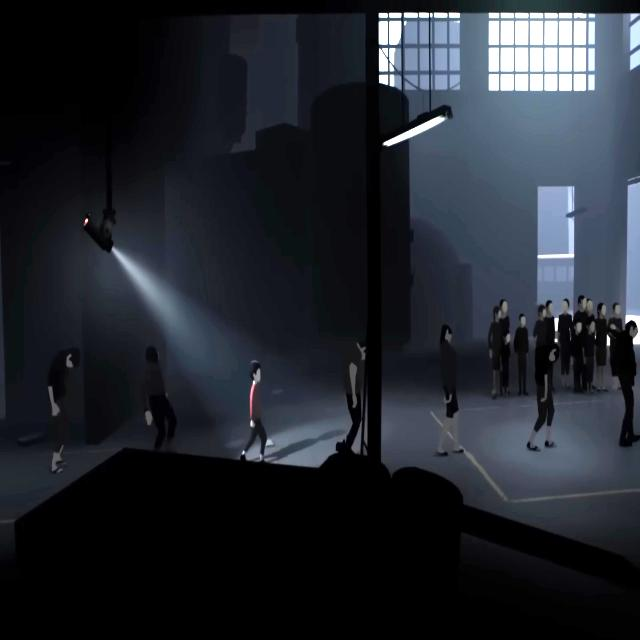boy: (240, 360, 267, 467)
human: (557, 298, 573, 390), (514, 314, 529, 396), (488, 306, 501, 399), (596, 303, 608, 391), (573, 318, 584, 394), (586, 318, 595, 394), (502, 331, 511, 396), (533, 304, 546, 344), (545, 300, 555, 343), (608, 302, 622, 330), (499, 299, 510, 330), (574, 295, 586, 318), (586, 298, 594, 319)
zombie: (46, 346, 80, 474), (436, 323, 464, 457), (526, 343, 560, 452), (144, 344, 177, 454), (612, 320, 640, 448), (344, 334, 366, 457)
